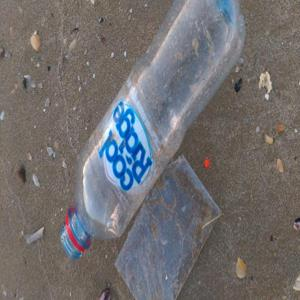plastic: (113, 158, 230, 299)
plastic bottle: (50, 2, 251, 268)
